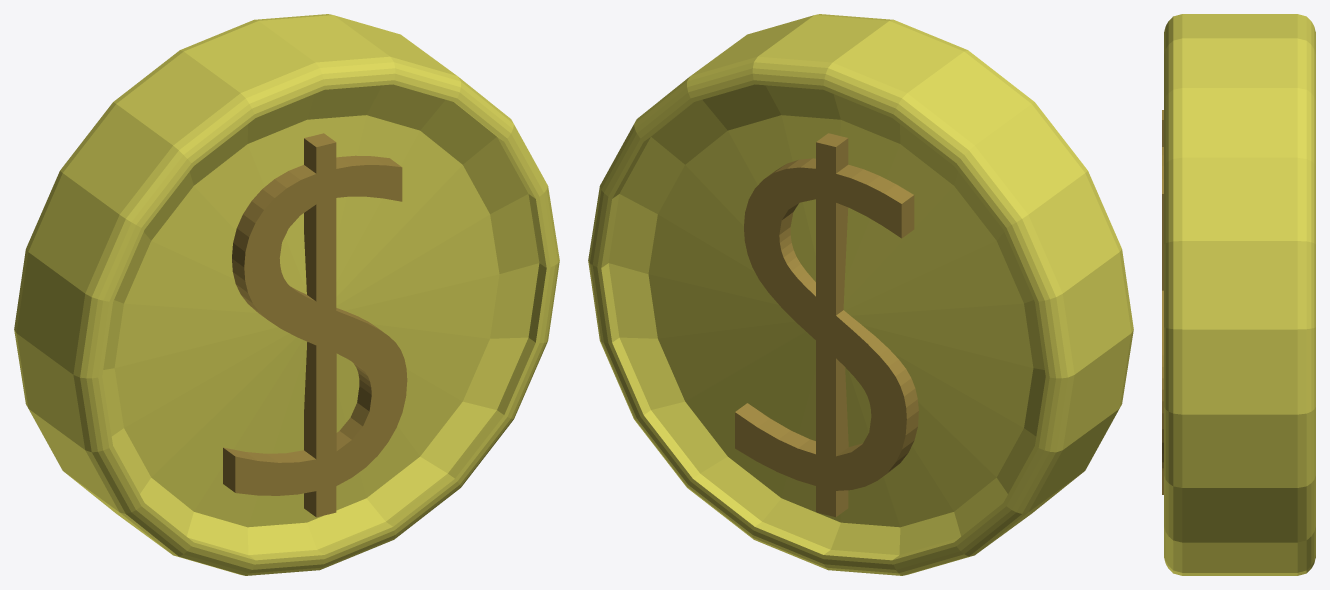
File: Coin_01.fbx
3 views of the same model, side by side, from view 1: azimuth 30°, elevation 25°; view 2: azimuth 150°, elevation 25°; view 3: azimuth 270°, elevation 25° (orthographic).
Visible parts, largest first — view 1: typeMesh3; view 2: typeMesh3; view 3: typeMesh3.
Boxes of the visible parts, <box> form: typeMesh3: <box>14,14,559,575</box>; typeMesh3: <box>588,14,1133,575</box>; typeMesh3: <box>1162,14,1315,575</box>.
Bounding box in the file's own units: 74.58 × 74.58 × 20.26.
